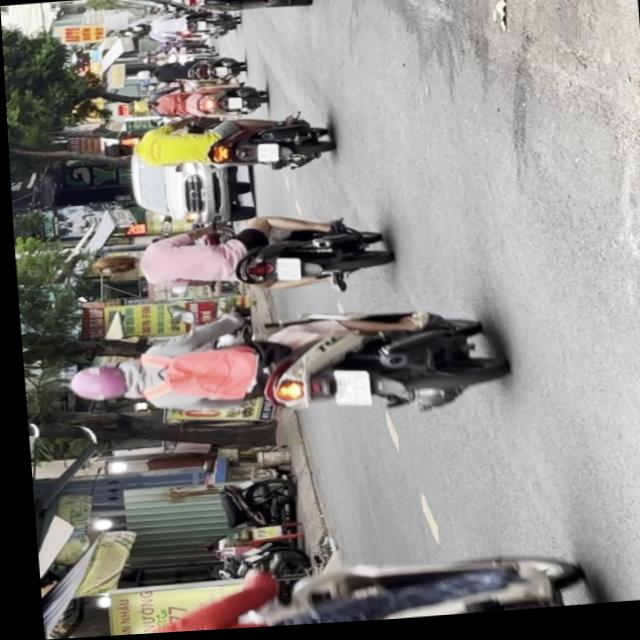helmet: (60, 362, 132, 406)
licenseplate: (57, 299, 500, 437), (87, 211, 388, 312), (95, 114, 330, 186)
motorcyclist: (89, 253, 135, 279), (97, 142, 132, 162)
nohelmet: (324, 375, 362, 411), (270, 261, 296, 285), (252, 146, 276, 165)
